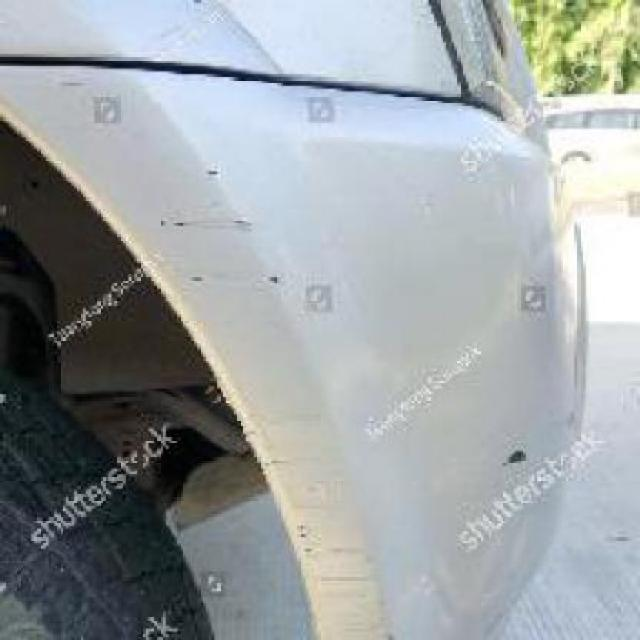dent-or-scratch: (149, 162, 283, 318), (281, 473, 377, 636)
